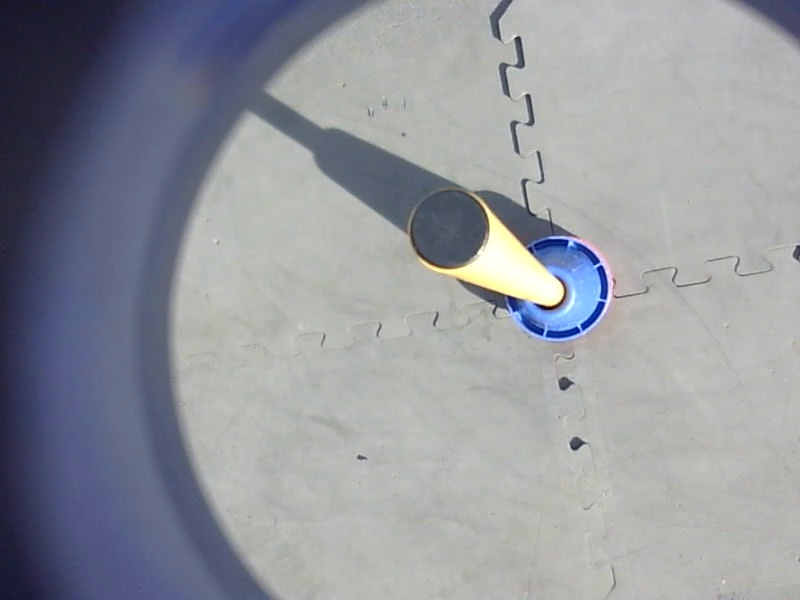tip: (400, 183, 496, 275)
